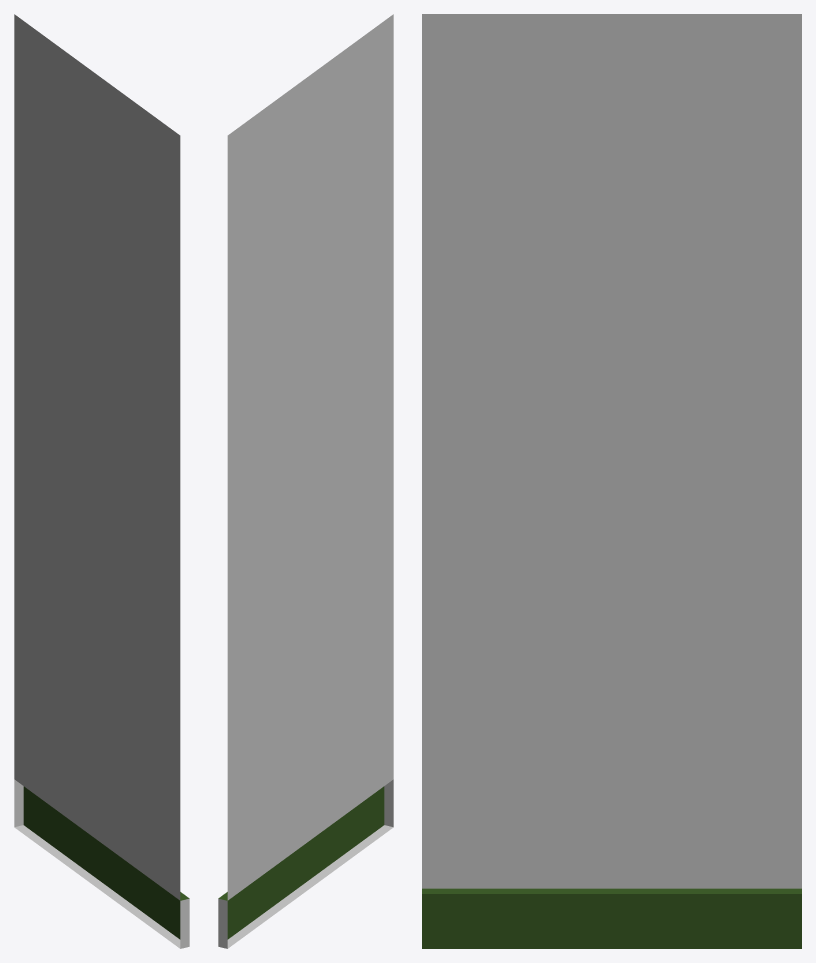
Rendered from Muro.fbx.
3 renders of one model, left to right at view 1: azimuth 30°, elevation 25°; view 2: azimuth 150°, elevation 25°; view 3: azimuth 270°, elevation 25°, orthographic. The views are drawn at different scales.
Parts seen in each view (by area): view 1: Plane; view 2: Plane; view 3: Plane.
Boxes of the visible parts, left/top/right/bottom form: Plane: left=14, top=14, right=189, bottom=948; Plane: left=218, top=14, right=393, bottom=948; Plane: left=422, top=14, right=801, bottom=948.
Size of the model in its own units: 6.5 by 540 by 200.
